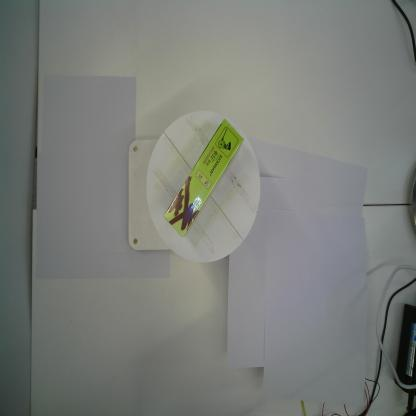Instant Drink: (162, 118, 244, 238)
